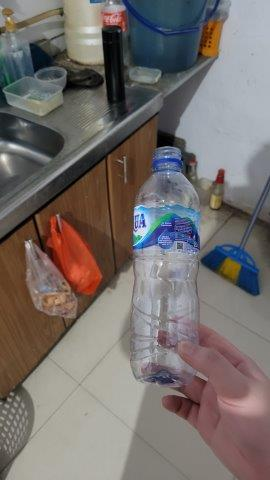botolplastik: (128, 145, 204, 384)
